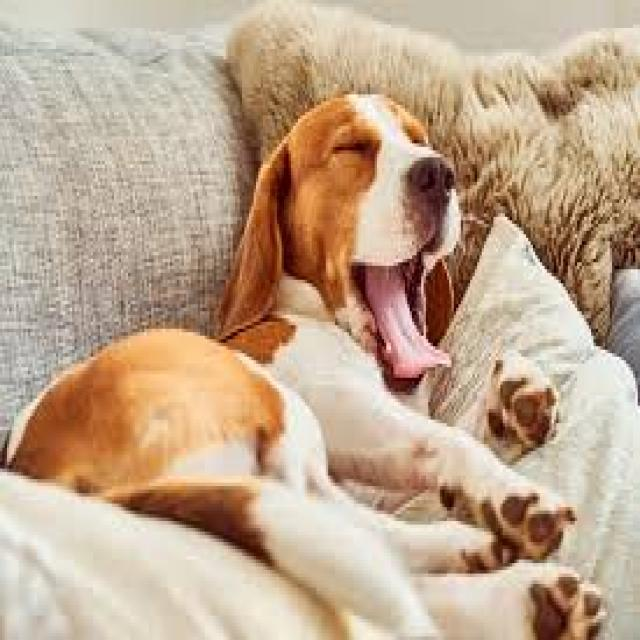Dog: (0, 86, 612, 640)
